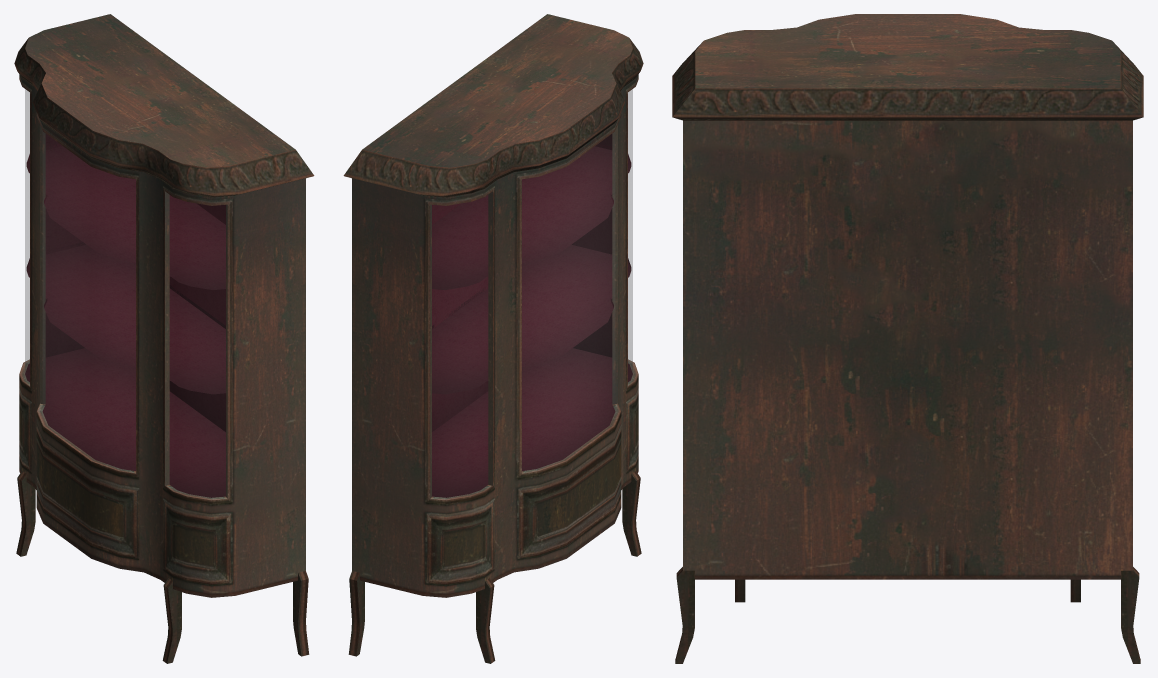
Rendered from Sideboard1.glb.
3 views of the same model, side by side, from view 1: azimuth 30°, elevation 25°; view 2: azimuth 150°, elevation 25°; view 3: azimuth 270°, elevation 25° (orthographic). The views are drawn at different scales.
Visible parts, largest first — view 1: Cube.056; view 2: Cube.056; view 3: Cube.056.
Part boxes in pixels (box(x1,y1,x2,y2)): Cube.056: box(14, 14, 314, 663); Cube.056: box(343, 14, 643, 663); Cube.056: box(672, 14, 1143, 663).
Bounding box in the file's own units: 0.4004 × 1.3 × 0.9677.
2 materials, 2 textured.
